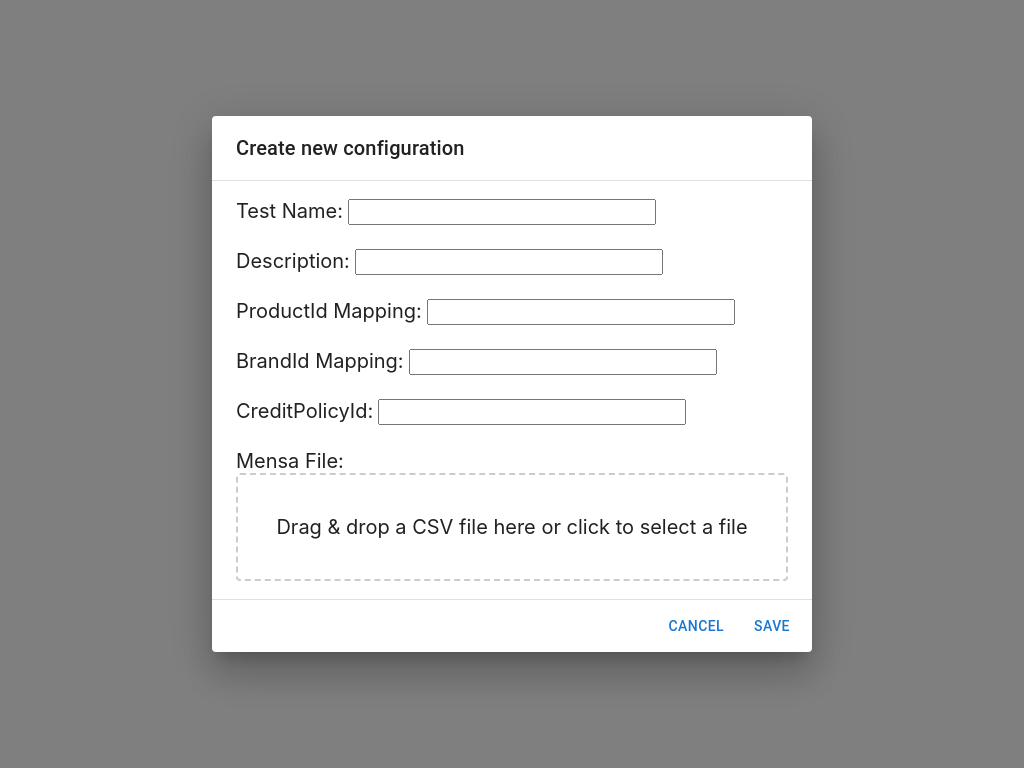
Test: CreateNewConfiguration › handles errors for blank file during form submission
Note: Fill in form data
In the field labelled "Test Name:": (502, 212) left=348, top=199, right=656, bottom=225, type "Test Name"
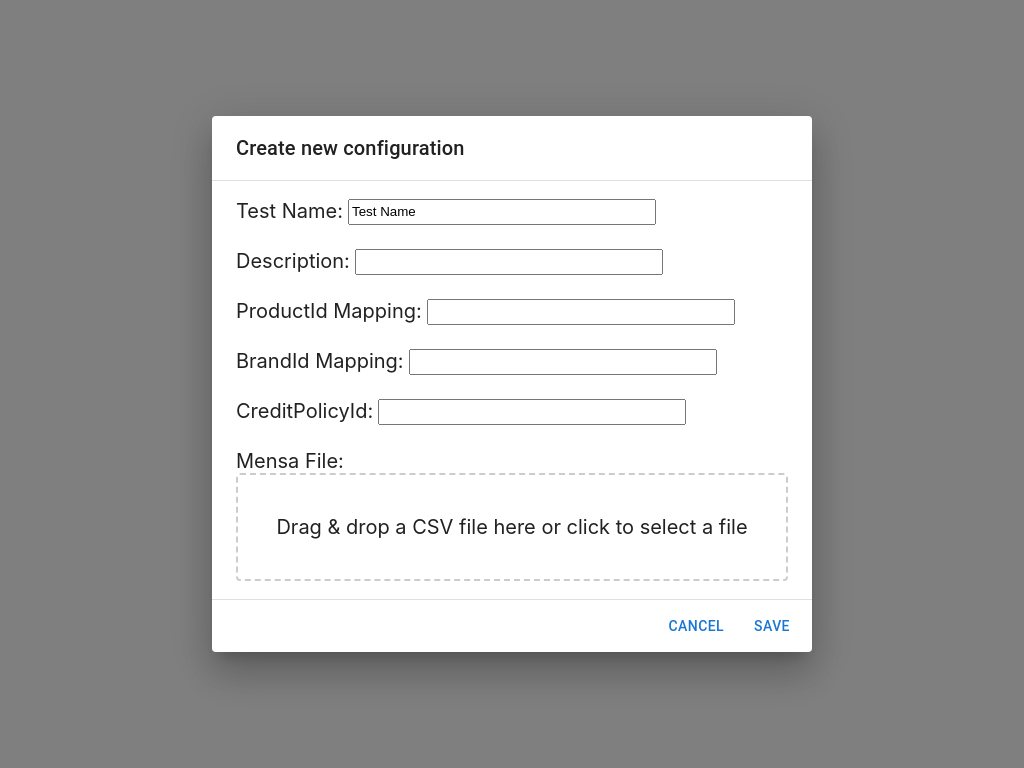
In the field labelled "Description:": (509, 262) left=355, top=249, right=663, bottom=275, type "Description"
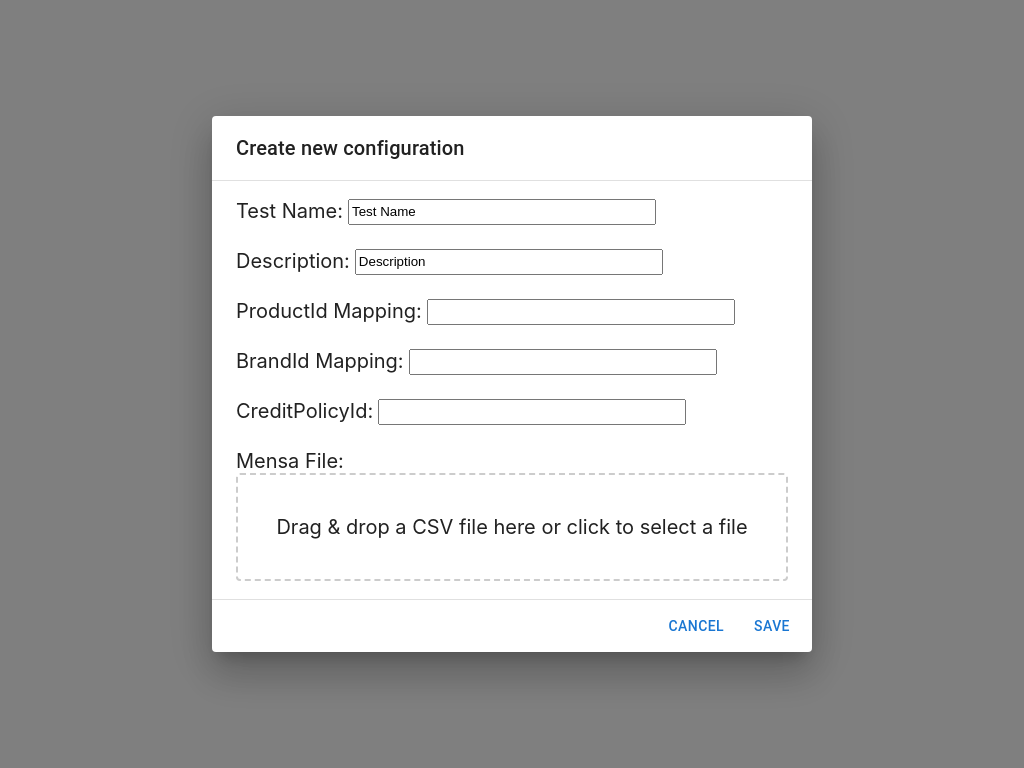
In the field labelled "ProductId Mapping:": (581, 312) left=427, top=299, right=735, bottom=325, type "ProductId Mapping"
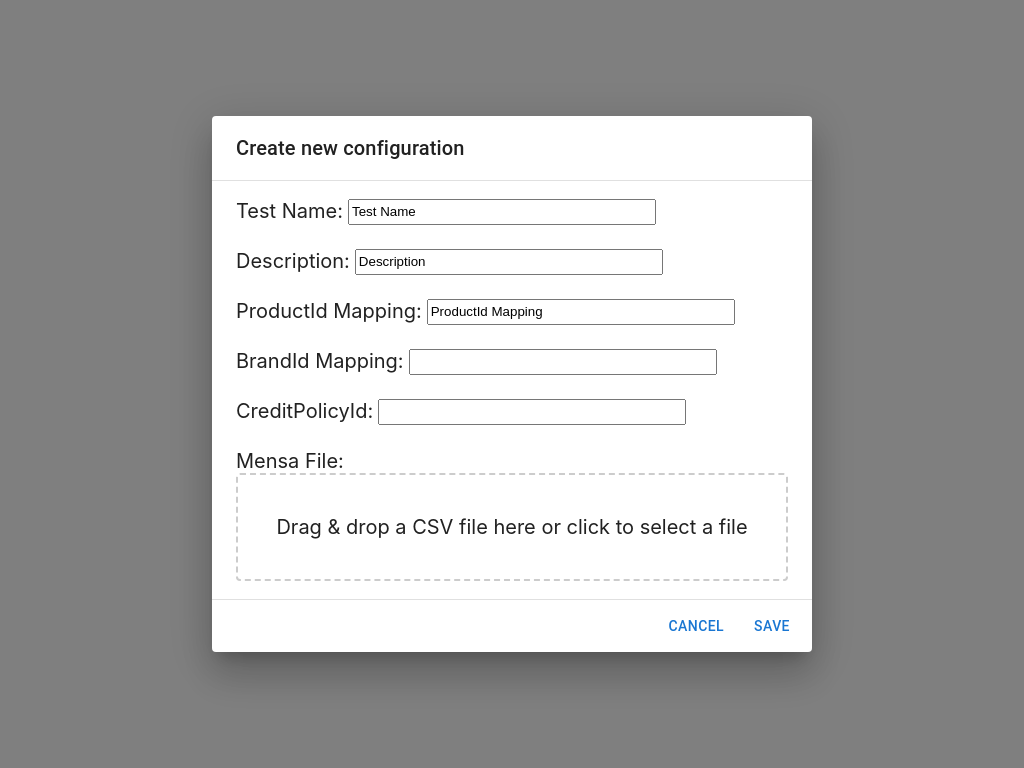
In the field labelled "BrandId Mapping:": (563, 362) left=409, top=349, right=717, bottom=375, type "BrandId Mapping"
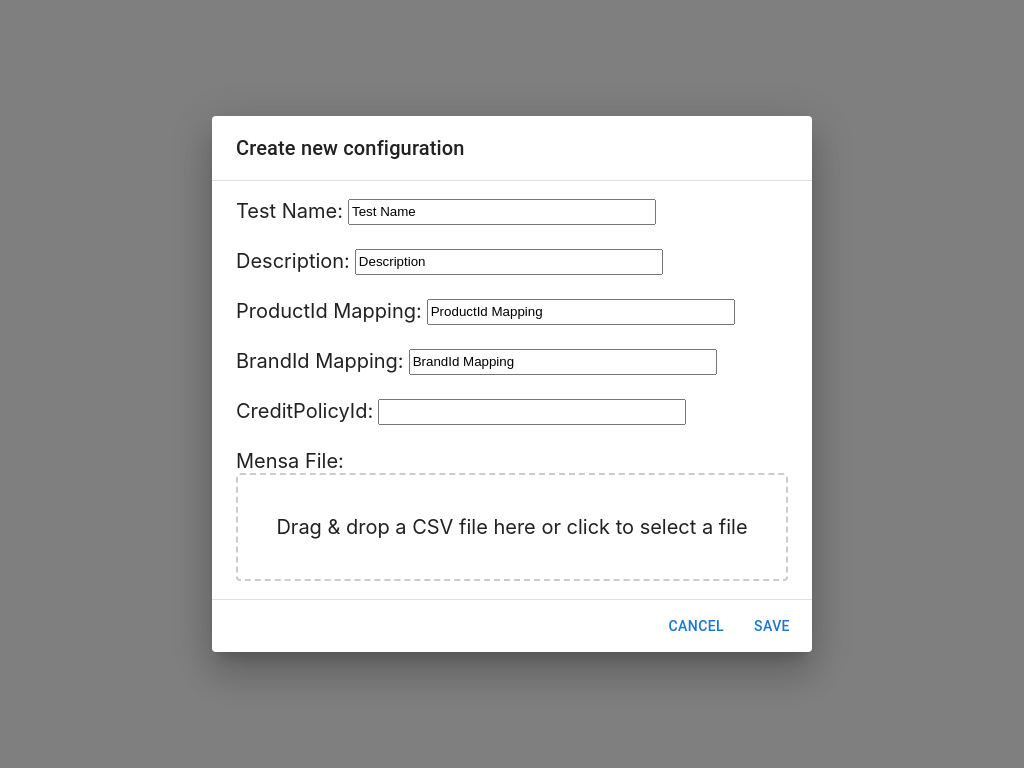
In the field labelled "CreditPolicyId:": (532, 412) left=378, top=399, right=686, bottom=425, type "CreditPolicyId"
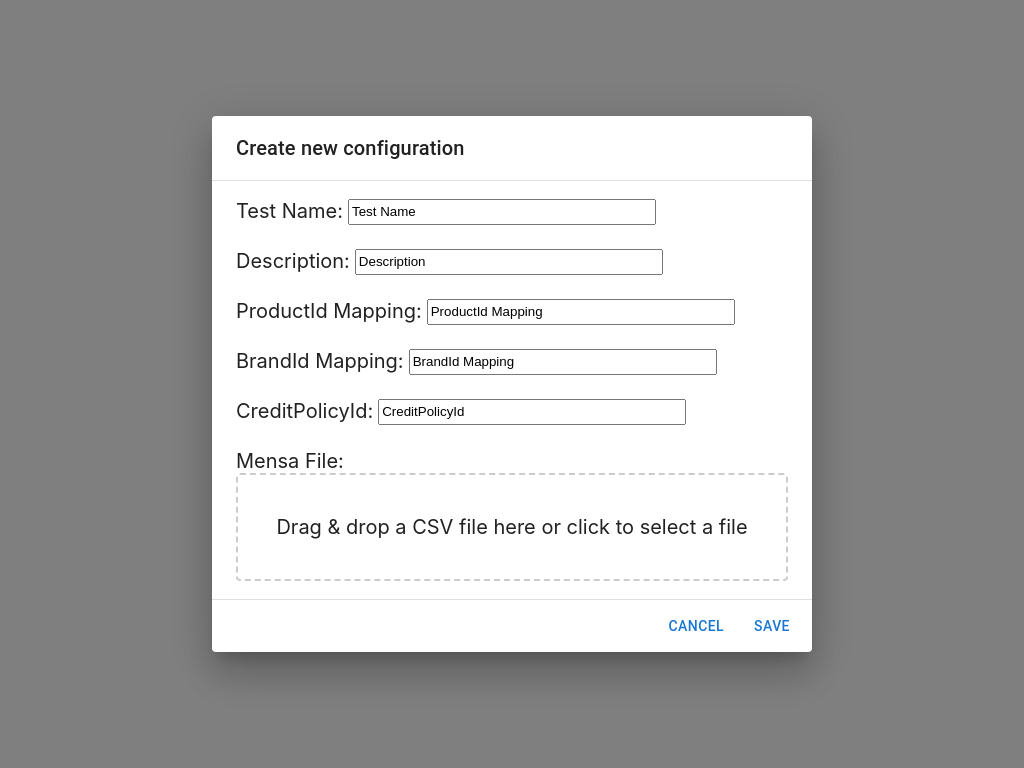
Note: Submit the form
Click the button "Save": (772, 626) left=740, top=608, right=804, bottom=644
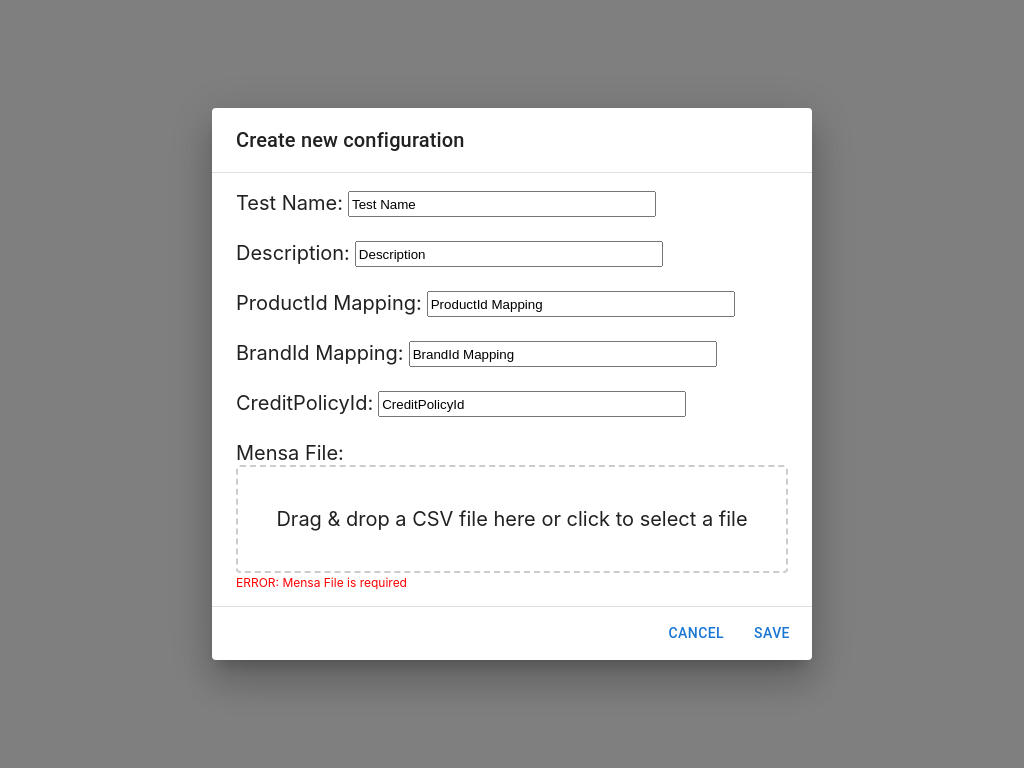
Expected: the text "ERROR: Mensa File is required" is shown, left=236, top=575, right=407, bottom=590
